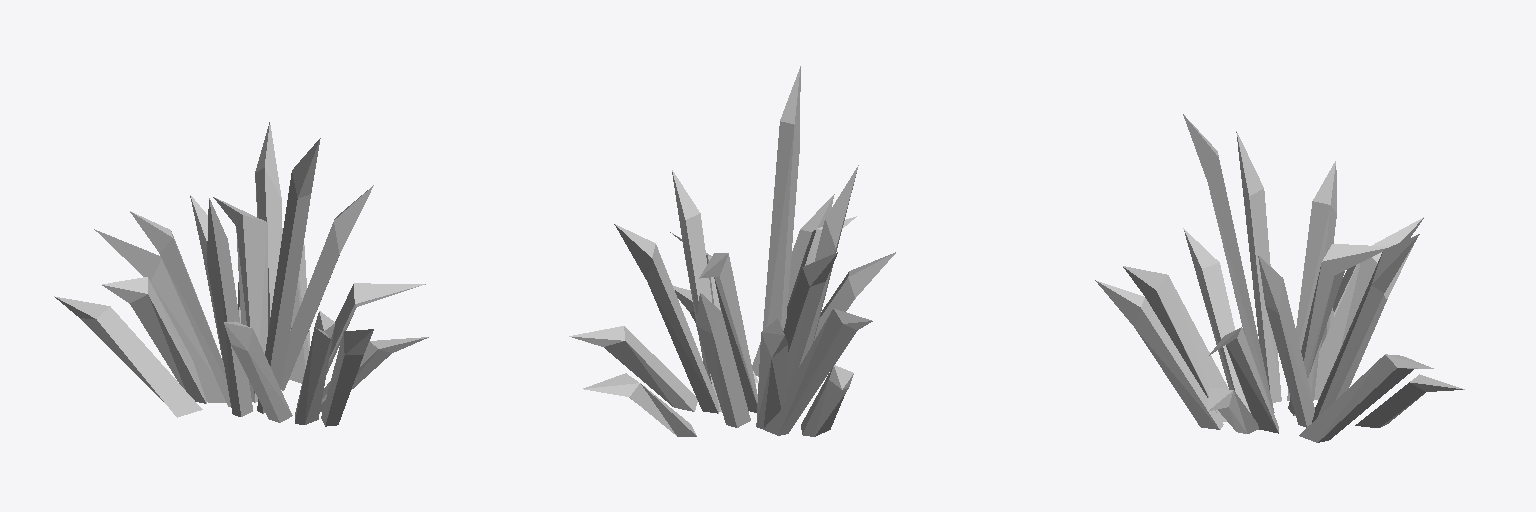
File: SM_Gerneric_Grass_Patch_03.obj
3 renders of one model, left to right at view 1: azimuth 30°, elevation 25°; view 2: azimuth 150°, elevation 25°; view 3: azimuth 270°, elevation 25°, orthographic.
Size of the model in its own units: 111 by 116 by 129.